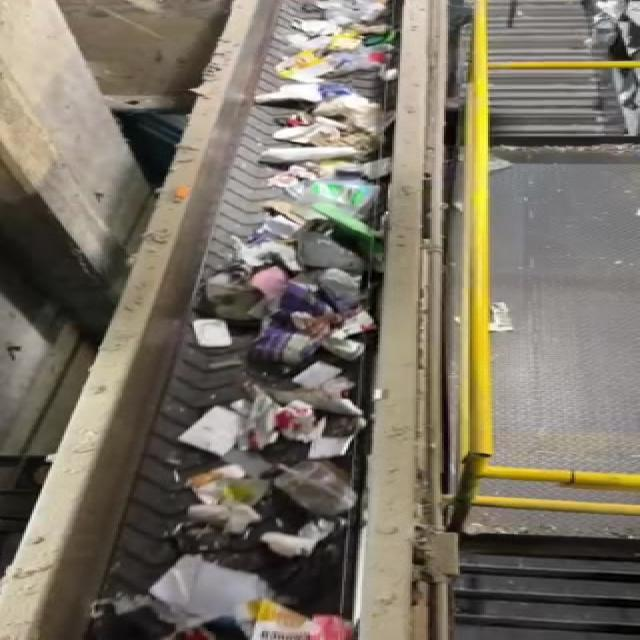paper: (145, 558, 276, 620), (260, 528, 346, 564)
pp: (272, 456, 363, 518)
